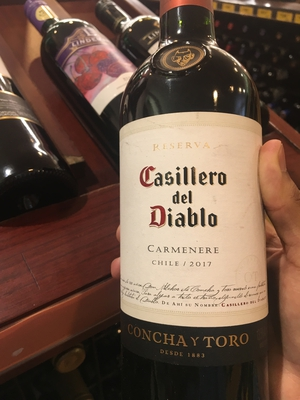casillero del diablo carmenere: (114, 25, 274, 400)
